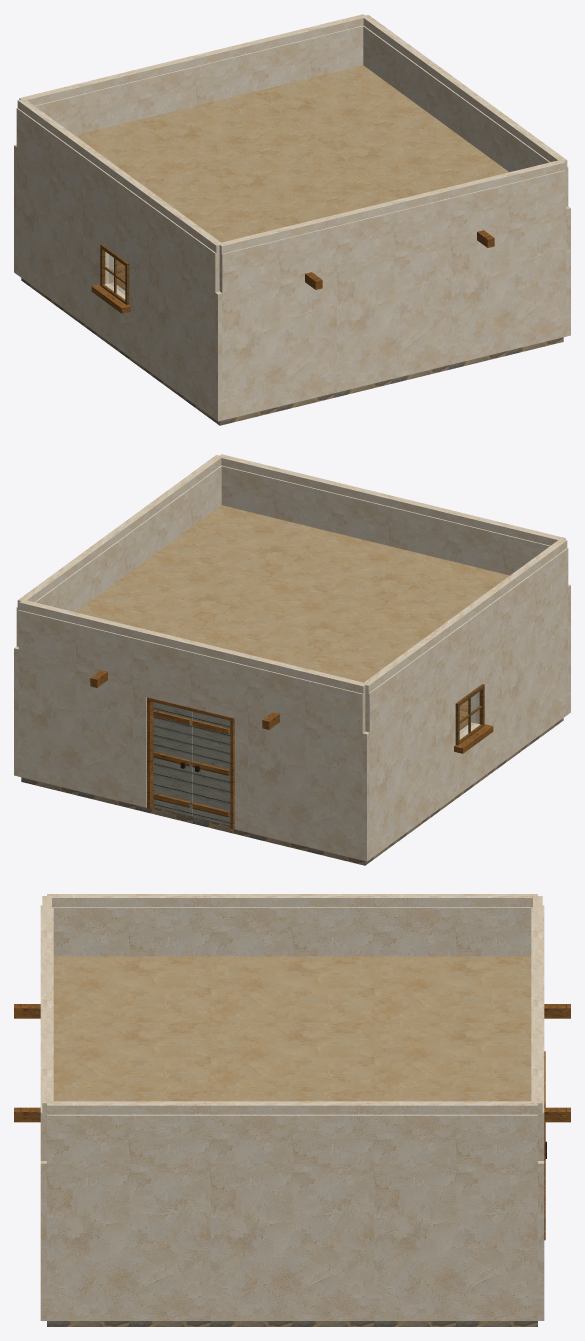
Rendered from frontier-adobe-storehouse.gltf.
The picture shows the model from 3 angles, top to bottom: view 1: azimuth 30°, elevation 25°; view 2: azimuth 150°, elevation 25°; view 3: azimuth 270°, elevation 25°; orthographic projection. The views are drawn at different scales.
Parts seen in each view (by area): view 1: exterior-L0-adobe, roof-parapet-L1-adobe, roof-L1-earth, datum-band-L0-adobe, floor-L0-stone, facade-trim-L0-trim; view 2: exterior-L0-adobe, roof-parapet-L1-adobe, roof-L1-earth, door-L0-door (×2), datum-band-L0-adobe, floor-L0-stone, portal-trim-L0-wood, door-L0-wood (×2), facade-trim-L0-trim; view 3: exterior-L0-adobe, roof-L1-earth, roof-parapet-L1-adobe, datum-band-L0-adobe, floor-L0-stone, roof-trim-L1-wood.
Part boxes in pixels (<box>): exterior-L0-adobe: <box>14,152,570,421</box>; roof-parapet-L1-adobe: <box>16,14,568,293</box>; roof-L1-earth: <box>75,65,508,242</box>; datum-band-L0-adobe: <box>14,144,570,301</box>; floor-L0-stone: <box>21,278,563,425</box>; facade-trim-L0-trim: <box>100,244,129,305</box>; exterior-L0-adobe: <box>14,592,570,861</box>; roof-parapet-L1-adobe: <box>16,454,568,733</box>; roof-L1-earth: <box>76,505,509,682</box>; door-L0-door (×2): <box>153,702,230,825</box>; datum-band-L0-adobe: <box>14,584,570,741</box>; floor-L0-stone: <box>21,718,563,865</box>; portal-trim-L0-wood: <box>147,697,234,829</box>; door-L0-wood (×2): <box>153,710,229,817</box>; facade-trim-L0-trim: <box>455,684,484,745</box>; exterior-L0-adobe: <box>40,1172,544,1320</box>; roof-L1-earth: <box>53,956,531,1101</box>; roof-parapet-L1-adobe: <box>40,894,544,1163</box>; datum-band-L0-adobe: <box>40,1161,544,1172</box>; floor-L0-stone: <box>47,1321,537,1326</box>; roof-trim-L1-wood: <box>14,1004,570,1122</box>.
Size of the model in its own units: 6.32 by 3.01 by 6.81.
9 materials, 8 textured.
